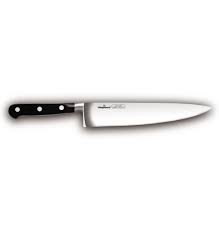kuchillu: (5, 98, 212, 131)
